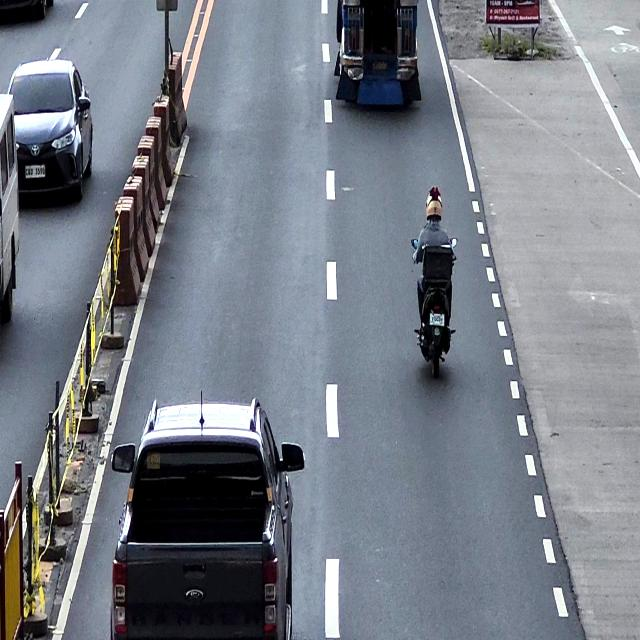Car: (110, 392, 305, 639), (6, 58, 93, 200), (0, 91, 25, 327)
Jeep: (333, 0, 421, 107)
License-Plate: (25, 166, 46, 178), (372, 59, 391, 72), (430, 313, 445, 327)
Motorcycle: (411, 236, 457, 379)
